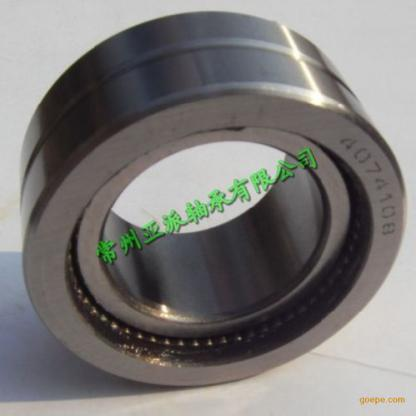FOD: (11, 6, 414, 393)
